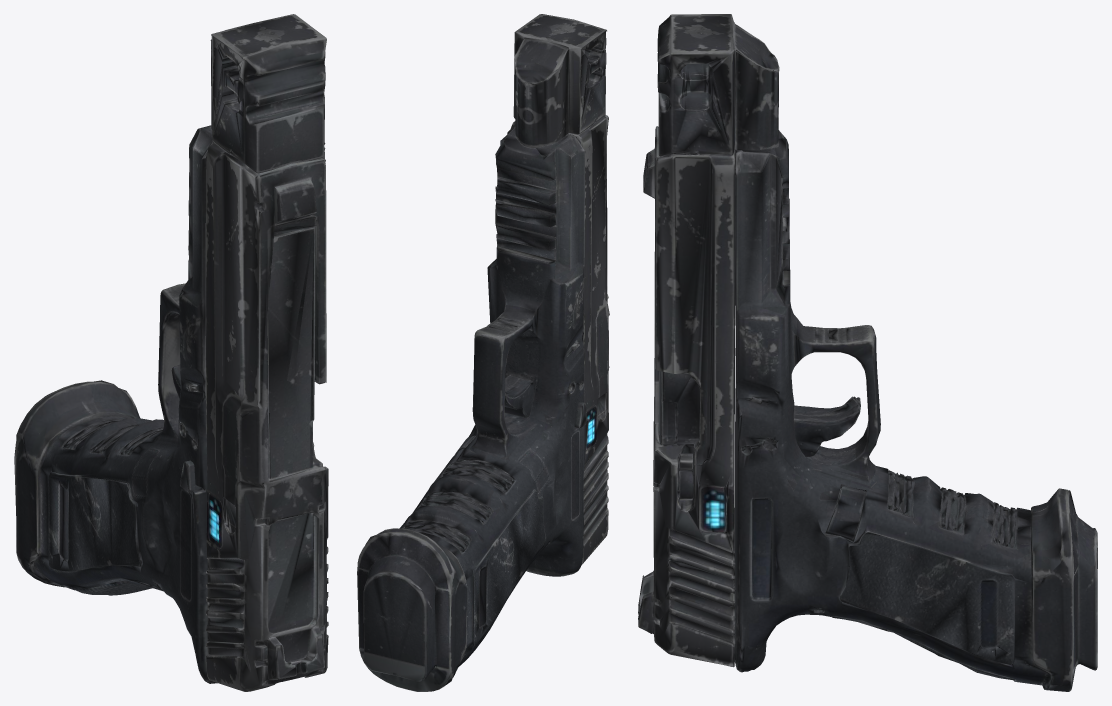
File: magnum.glb
3 renders of one model, left to right at view 1: azimuth 30°, elevation 25°; view 2: azimuth 150°, elevation 25°; view 3: azimuth 270°, elevation 25°, orthographic. The views are drawn at different scales.
Parts seen in each view (by area): view 1: Mesh_0; view 2: Mesh_0; view 3: Mesh_0.
Part boxes in pixels (x1,y1,x2,y2): Mesh_0: (14, 14, 328, 691); Mesh_0: (357, 14, 609, 691); Mesh_0: (638, 14, 1097, 691).
Size of the model in its own units: 0.0553 by 0.305 by 0.1949.
1 material, 1 textured.
